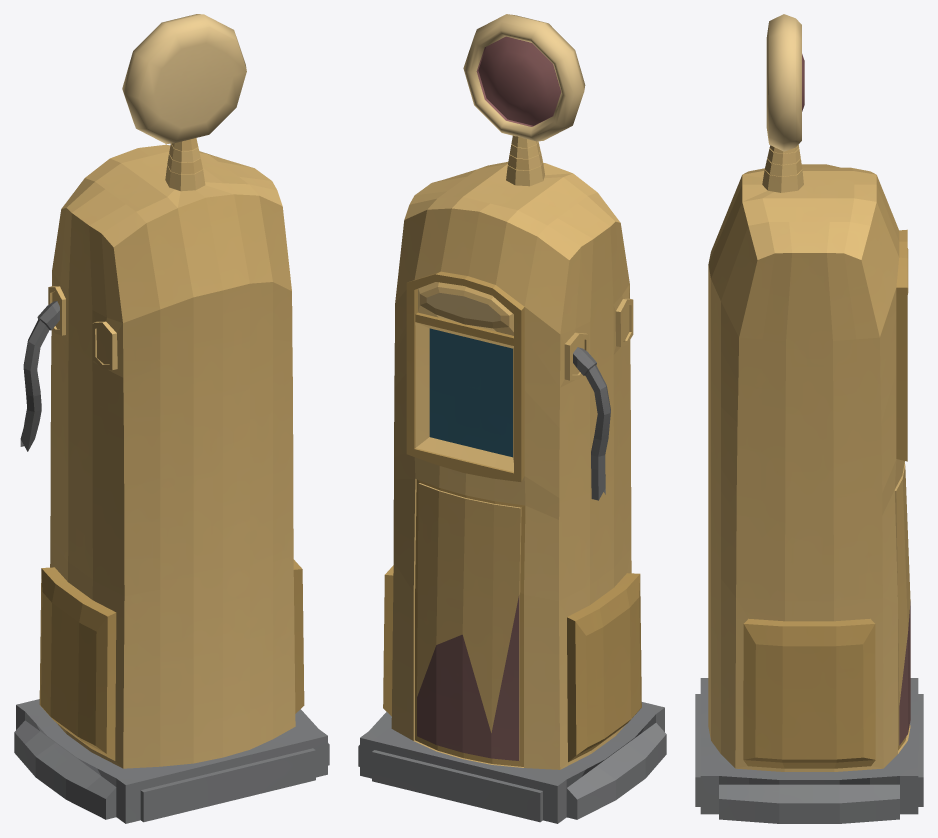
Rendered from gas_pump_B.glb.
The picture shows the model from 3 angles, left to right: view 1: azimuth 30°, elevation 25°; view 2: azimuth 150°, elevation 25°; view 3: azimuth 270°, elevation 25°; orthographic projection. The views are drawn at different scales.
Visible parts, largest first — view 1: gas_pump_B_body, gas_pump_B_head, gas_pump_B_hose; view 2: gas_pump_B_body, gas_pump_B_head, gas_pump_B_hose; view 3: gas_pump_B_body, gas_pump_B_head.
Boxes of the visible parts, x1,y1,x2,y2 form: gas_pump_B_body: (14,138,329,823); gas_pump_B_head: (122,14,246,144); gas_pump_B_hose: (20,301,59,451); gas_pump_B_body: (358,135,666,823); gas_pump_B_head: (463,14,585,141); gas_pump_B_hose: (573,347,610,500); gas_pump_B_body: (695,145,923,823); gas_pump_B_head: (766,14,804,151).
Size of the model in its own units: 0.929 by 2.71 by 0.7562.
1 material, 1 textured.
